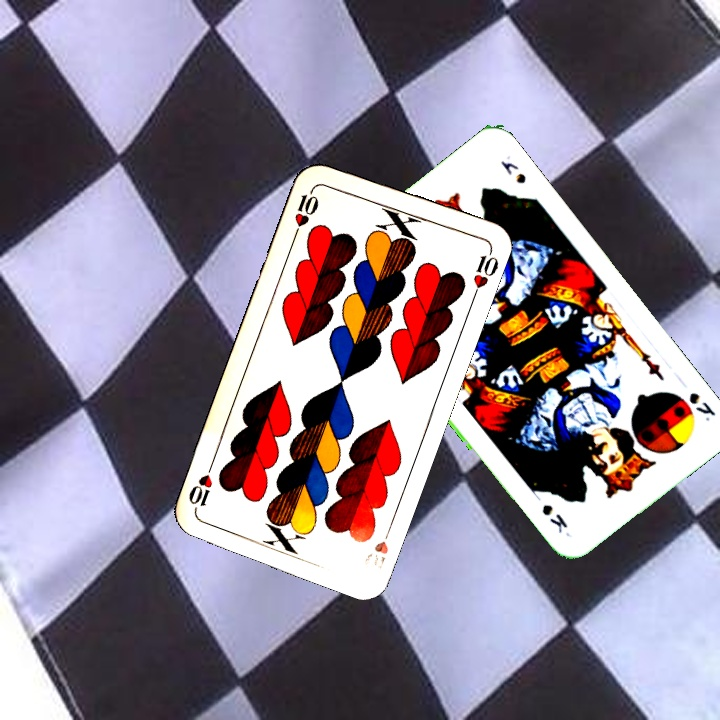H10: (360, 520, 395, 571), (290, 182, 321, 239)
SK: (684, 388, 719, 425)
